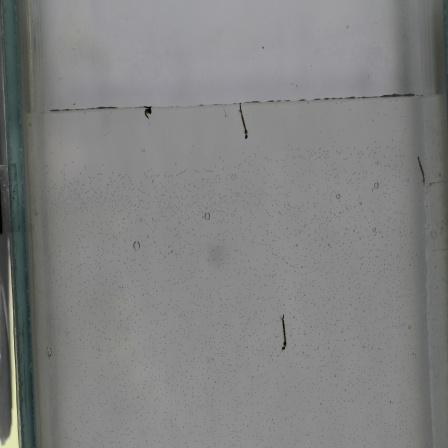Jentik-Nyamuk: (274, 310, 292, 355), (234, 102, 253, 143), (412, 153, 430, 190), (138, 106, 155, 121)
